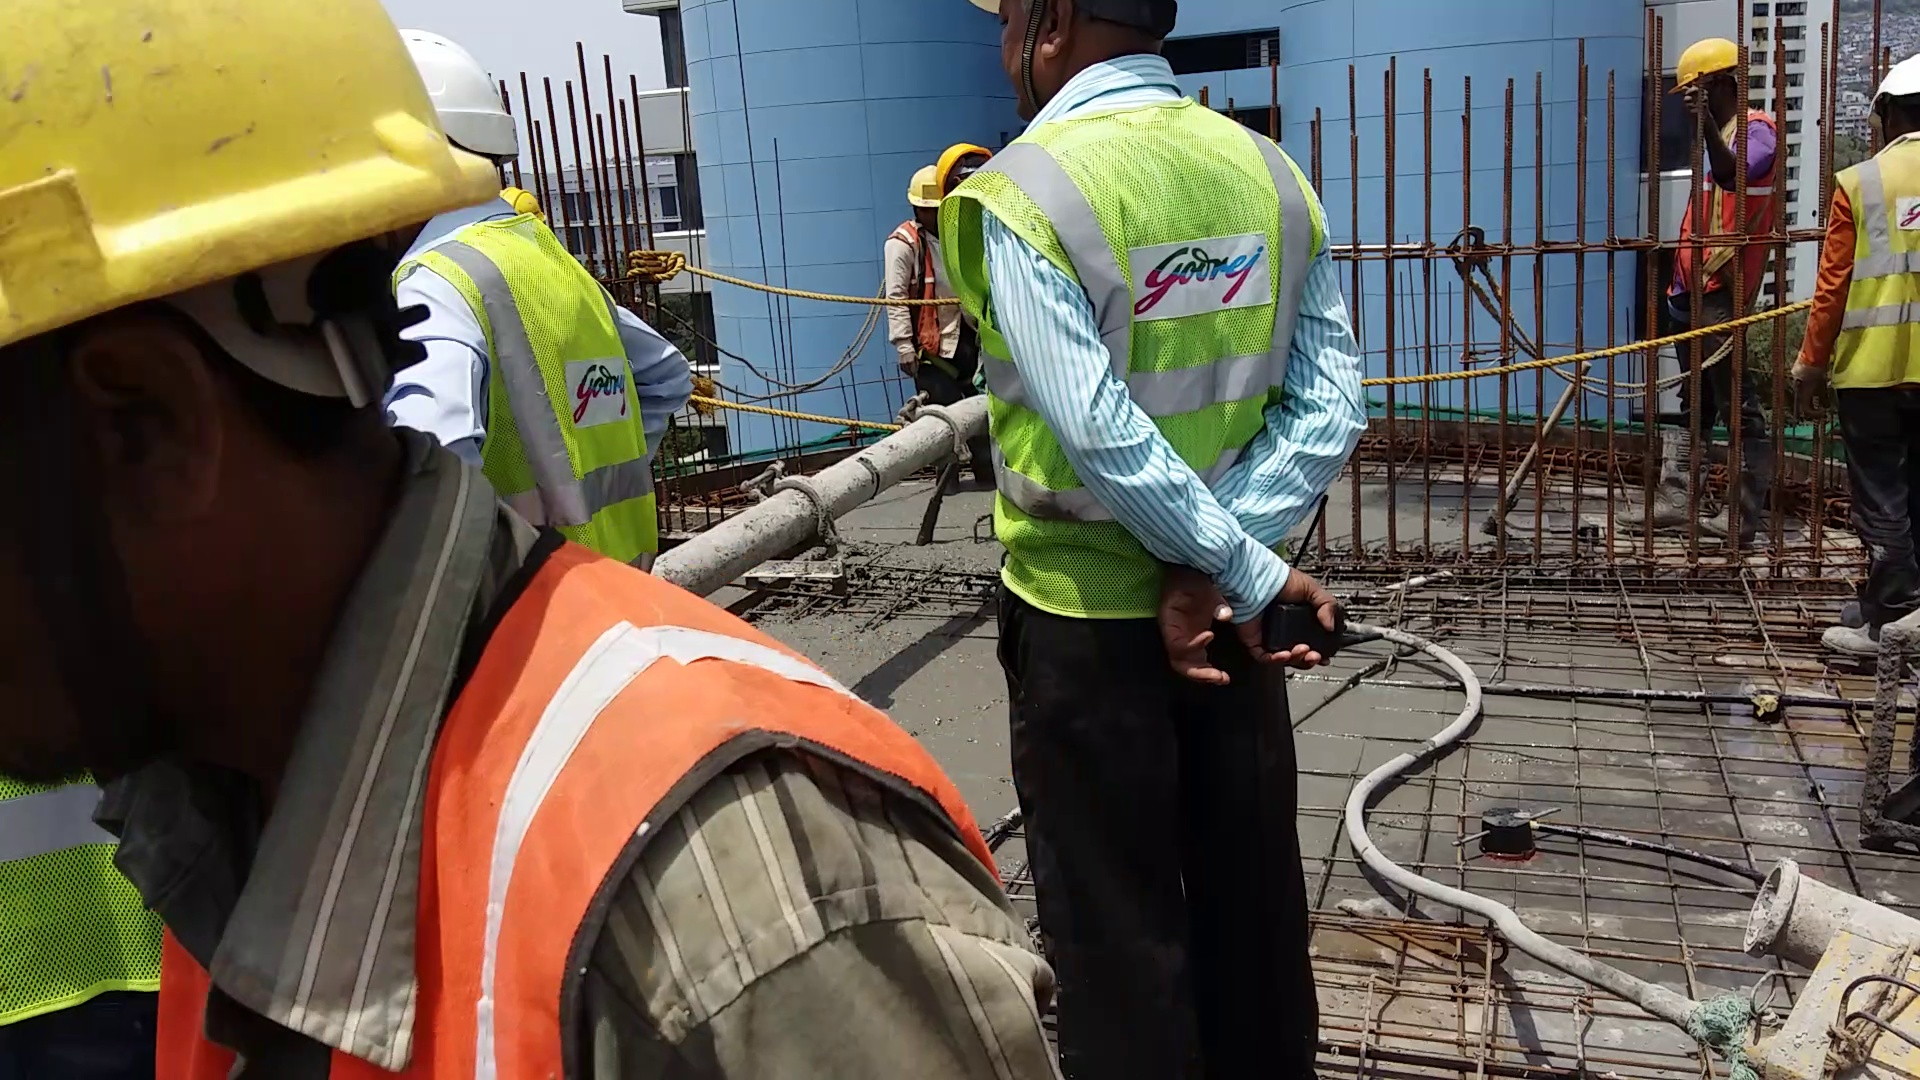SAFE: (1, 1, 713, 1080), (1826, 54, 1920, 388)
